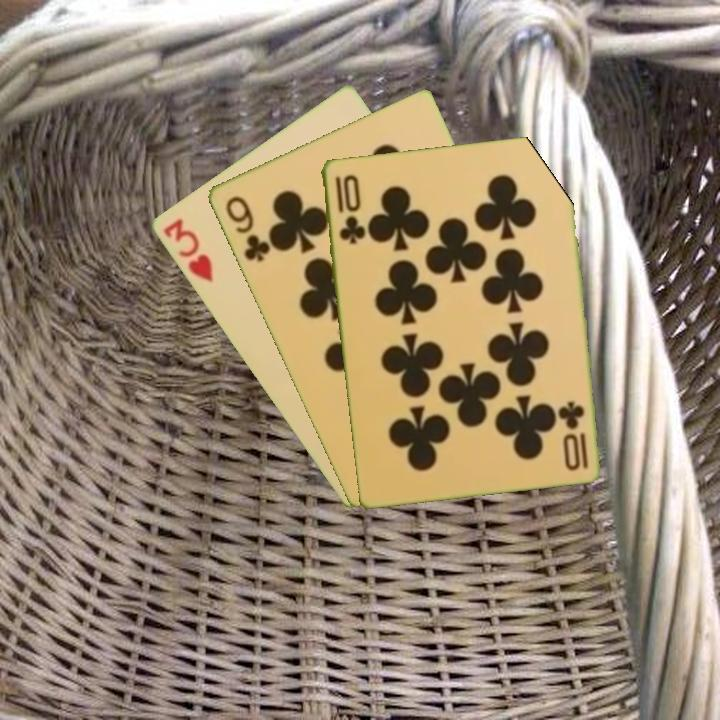10c: (331, 171, 366, 246), (558, 397, 590, 473)
3h: (159, 215, 216, 286)
9c: (221, 192, 273, 264)
